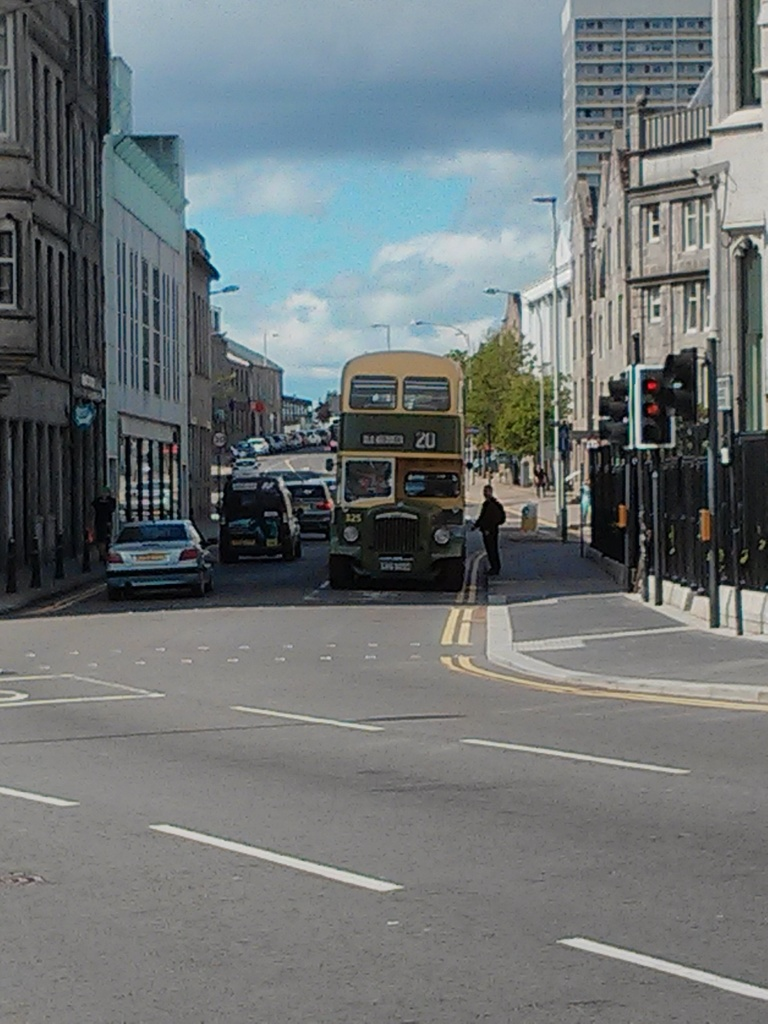Bus: (323, 347, 472, 592)
